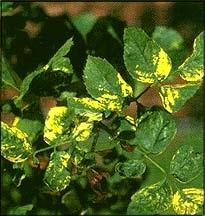Tomato leaf mosaic virus: (124, 23, 167, 83), (85, 53, 133, 105), (135, 111, 177, 155), (124, 180, 173, 214), (39, 148, 73, 193), (167, 143, 201, 185), (114, 157, 148, 178)
